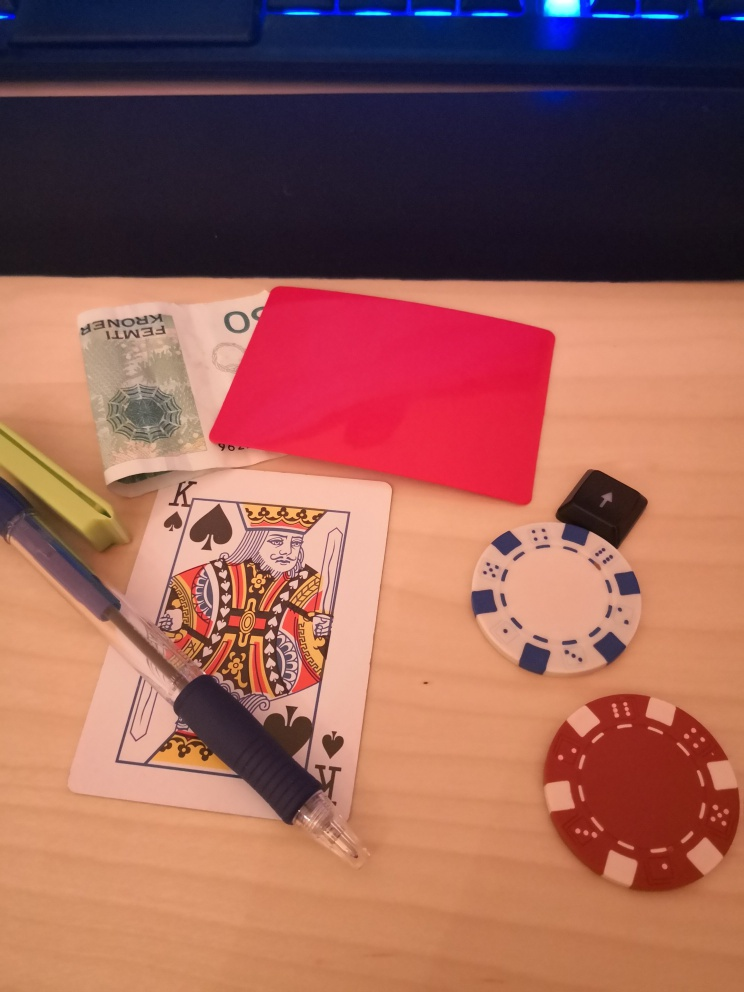king: (69, 470, 394, 828)
